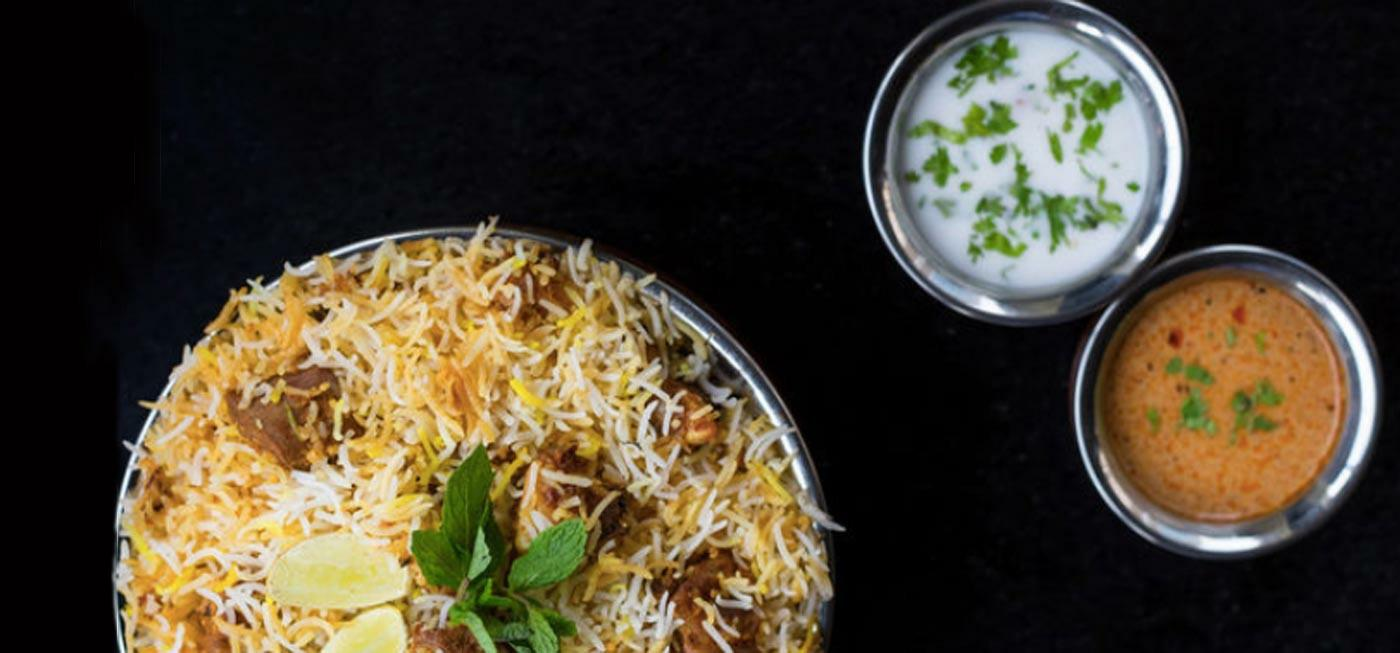Biryani: (109, 211, 845, 653)
